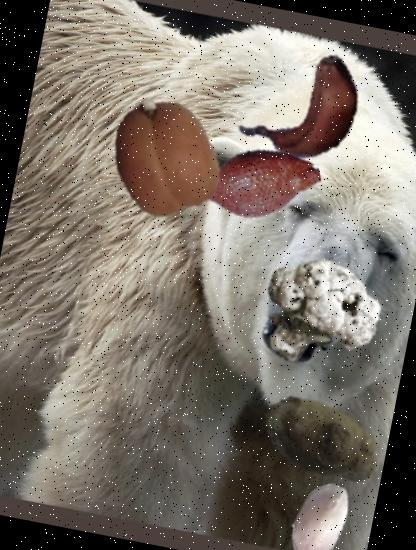Apricot: (96, 88, 232, 226)
Banana: (235, 42, 385, 191)
Cauliflower: (245, 243, 389, 387)
Ginger: (249, 367, 394, 512)
Hazelnut: (269, 471, 371, 550)
Salak: (184, 109, 332, 256)
